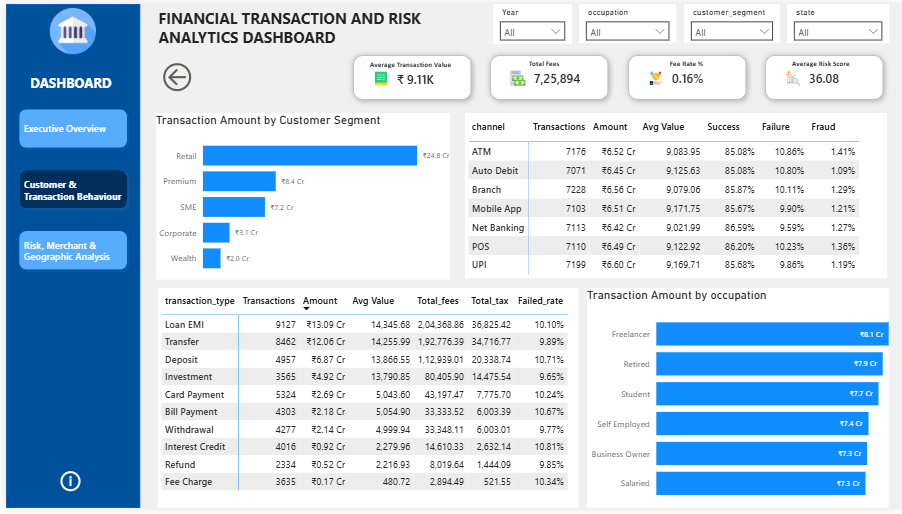

The page's visual inventory and layout, read from the dashboard file:
{"tool":"powerbi","page":{"name":"Customer & Transaction Behaviour","canvas":[1280,720],"ordinal":1},"visuals":[{"type":"shape","box":[0,0,191.7,720],"z":0},{"type":"group","id":"g1","title":"Group 1","box":[487.5,63.8,186.4,81.5],"z":0,"group":"g5"},{"type":"shape","box":[487.5,63.8,186.4,81.5],"z":0,"group":"g1"},{"type":"shape","box":[880.3,63.8,186.4,81.5],"z":0,"group":"g4"},{"type":"shape","box":[1076.8,63.8,186.4,81.5],"z":0,"group":"g3"},{"type":"shape","box":[683.9,64.2,186.4,81.5],"z":0,"group":"g2"},{"type":"slicer","fields":{"Values":["Date.Date.Variation.Date Hierarchy.Year"]},"box":[695.3,0,112.6,56.7],"z":1000,"group":"g6"},{"type":"image","box":[48.5,5.8,94.2,65.8],"z":1000},{"type":"group","id":"g2","title":"Group 2","box":[683.9,64.2,186.4,81.5],"z":1000,"group":"g5"},{"type":"cardVisual","fields":{"Data":["Measure.Fee Rate %"]},"box":[952.4,90.8,71,26.3],"z":1000,"group":"g4"},{"type":"cardVisual","fields":{"Data":["Measure.Avg_risk_score"]},"box":[1148.9,90.8,71,26.3],"z":1000,"group":"g3"},{"type":"group","id":"g3","title":"Group 3","box":[1076.8,63.8,186.4,81.5],"z":2000,"group":"g5"},{"type":"cardVisual","fields":{"Data":["Measure.Avg_transaction_value"]},"box":[559.4,91.2,96.5,29.8],"z":2000,"group":"g1"},{"type":"cardVisual","fields":{"Data":["Measure.Total_fees"]},"box":[756,91.2,71,26.3],"z":2000,"group":"g2"},{"type":"image","box":[913.2,94,31.4,23.3],"z":2000,"group":"g4"},{"type":"image","box":[1109.7,94,31.4,23.3],"z":2000,"group":"g3"},{"type":"textbox","box":[0,94.5,185.5,35.5],"z":2000},{"type":"textbox","box":[213.3,0,400,68.3],"z":3000},{"type":"group","id":"g4","title":"Group 4","box":[880.3,63.8,186.4,81.5],"z":3000,"group":"g5"},{"type":"textbox","box":[1124.1,74.1,94.1,18.8],"z":3000,"group":"g3"},{"type":"image","box":[520.4,94,31.4,23.3],"z":3000,"group":"g1"},{"type":"image","box":[716.8,94.4,31.4,23.3],"z":3000,"group":"g2"},{"type":"slicer","fields":{"Values":["customers.occupation"]},"box":[818.5,0.1,138.7,56.1],"z":4000,"group":"g6"},{"type":"group","id":"g5","title":"Group 5","box":[487.5,63.8,775,81.2],"z":4000},{"type":"textbox","box":[945.5,74.1,57.6,17.1],"z":4000,"group":"g4"},{"type":"textbox","box":[748.8,74.2,51.2,17.1],"z":4000,"group":"g2"},{"type":"textbox","box":[520.9,74.6,125.9,19.4],"z":4000,"group":"g1"},{"type":"barChart","fields":{"Category":["customers.customer_segment"],"Y":["Measure.Total Transaction Amount(Cr)"]},"box":[213.8,155,420,237.5],"z":5000},{"type":"slicer","fields":{"Values":["customers.customer_segment"]},"box":[967.9,0.1,137.5,56.1],"z":6000,"group":"g6"},{"type":"barChart","fields":{"Category":["customers.occupation"],"Y":["Measure.Total Transaction Amount(Cr)"]},"box":[830,406.2,431.2,313.8],"z":6000},{"type":"pivotTable","fields":{"Rows":["finance_transactions.channel"],"Values":["Measure.Total_transactions","Measure.Total Transaction Amount(Cr)","Measure.Avg_transaction_value","Measure.Success_rate_%","Measure.Failed_rate","Measure.Fraud_rate_%"]},"box":[656.2,155,602.5,236.2],"z":7000},{"type":"slicer","fields":{"Values":["customers.state"]},"box":[1116,0.1,146,56.1],"z":8000,"group":"g6"},{"type":"pivotTable","fields":{"Values":["Measure.Total_transactions","Measure.Total Transaction Amount(Cr)","Measure.Avg_transaction_value","Measure.Total_fees","Measure.Total_tax","Measure.Failed_rate"],"Rows":["finance_transactions.transaction_type"]},"box":[217.5,406.2,601.2,313.8],"z":8000},{"type":"group","id":"g6","title":"Group 6","box":[695.3,0,566.7,56.7],"z":9000},{"type":"actionButton","box":[218.1,78.1,57.5,51.9],"z":10000},{"type":"pageNavigator","box":[12.2,144.4,166.7,241.1],"z":11000},{"type":"actionButton","box":[72.9,661.4,38.6,40],"z":12000}]}

Visuals, with their boxes in screenshot pixels (x1, y1, x2, y2), scaled from the page's 1280x720 canvas onto the 902x514 screenshot:
shape: (0, 0, 135, 513)
"Group 1" group: (344, 46, 475, 104)
shape: (344, 46, 475, 104)
shape: (620, 46, 752, 104)
shape: (759, 46, 890, 104)
shape: (482, 46, 613, 104)
slicer - Date.Date.Variation.Date Hierarchy.Year: (490, 0, 569, 40)
image: (34, 4, 101, 51)
"Group 2" group: (482, 46, 613, 104)
cardVisual - Measure.Fee Rate %: (671, 65, 721, 84)
cardVisual - Measure.Avg_risk_score: (810, 65, 860, 84)
"Group 3" group: (759, 46, 890, 104)
cardVisual - Measure.Avg_transaction_value: (394, 65, 462, 86)
cardVisual - Measure.Total_fees: (533, 65, 583, 84)
image: (644, 67, 666, 84)
image: (782, 67, 804, 84)
textbox: (0, 67, 131, 93)
textbox: (150, 0, 432, 49)
"Group 4" group: (620, 46, 752, 104)
textbox: (792, 53, 858, 66)
image: (367, 67, 389, 84)
image: (505, 67, 527, 84)
slicer - customers.occupation: (577, 0, 675, 40)
"Group 5" group: (344, 46, 890, 104)
textbox: (666, 53, 707, 65)
textbox: (528, 53, 564, 65)
textbox: (367, 53, 456, 67)
barChart - customers.customer_segment x Measure.Total Transaction Amount(Cr): (151, 111, 447, 280)
slicer - customers.customer_segment: (682, 0, 779, 40)
barChart - customers.occupation x Measure.Total Transaction Amount(Cr): (585, 290, 889, 513)
pivotTable - finance_transactions.channel x Measure.Total_transactions: (462, 111, 887, 279)
slicer - customers.state: (786, 0, 889, 40)
pivotTable - Measure.Total_transactions x Measure.Total Transaction Amount(Cr): (153, 290, 577, 513)
"Group 6" group: (490, 0, 889, 40)
actionButton: (154, 56, 194, 93)
pageNavigator: (9, 103, 126, 275)
actionButton: (51, 472, 79, 501)
